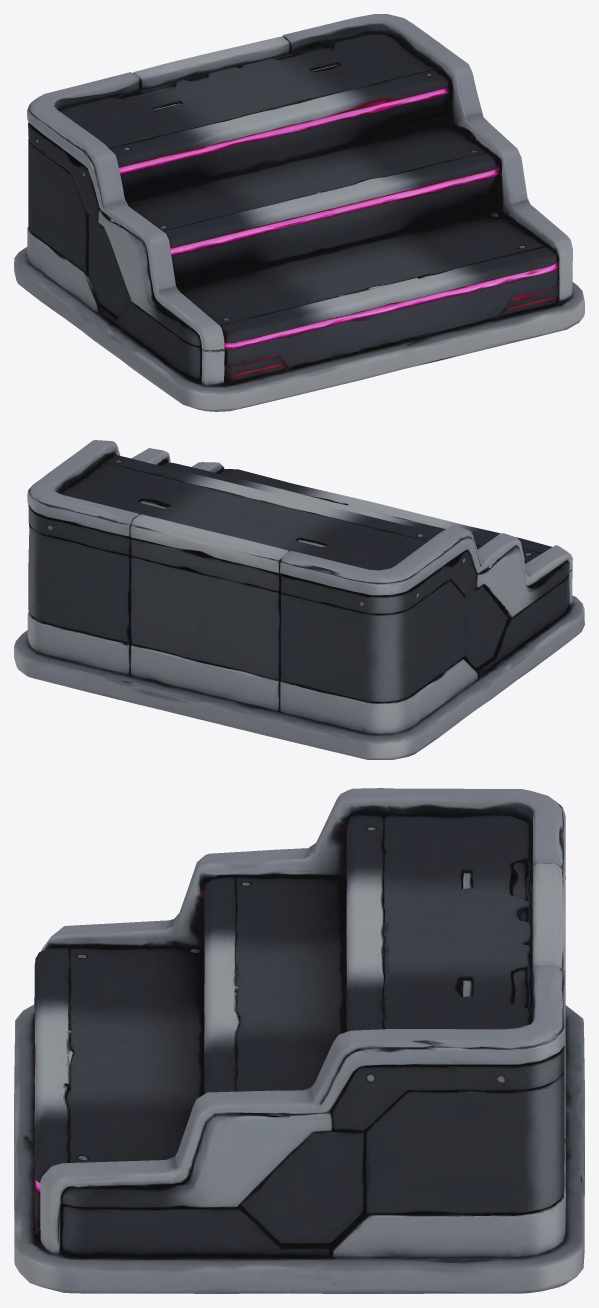
File: prop-stand.glb
3 renders of one model, top to bottom at view 1: azimuth 30°, elevation 25°; view 2: azimuth 150°, elevation 25°; view 3: azimuth 270°, elevation 25°, orthographic. The views are drawn at different scales.
Parts seen in each view (by area): view 1: body; view 2: body; view 3: body.
Part boxes in pixels (x1,y1,x2,y2): body: (14,14,584,411); body: (14,440,584,759); body: (14,788,584,1293).
Size of the model in its own units: 2.3 by 1 by 2.02.
1 material, 1 textured.
